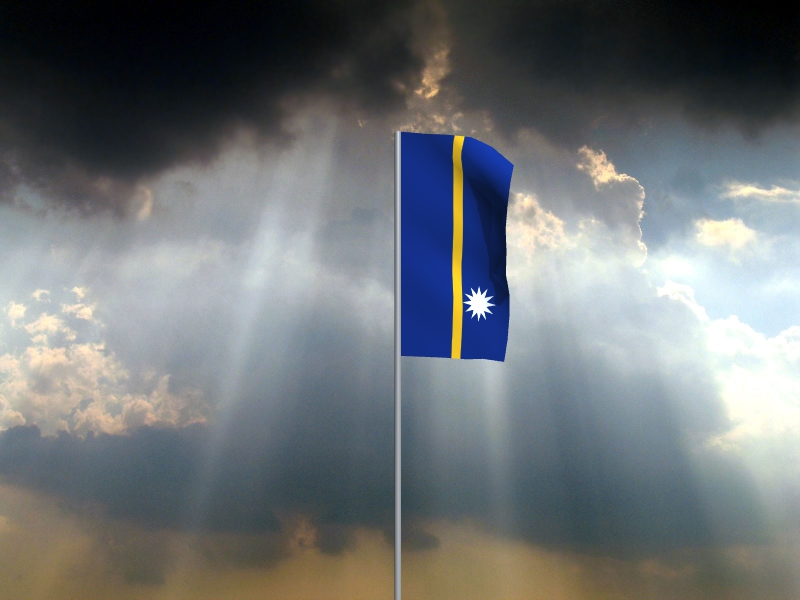nr: (401, 133, 516, 363)
